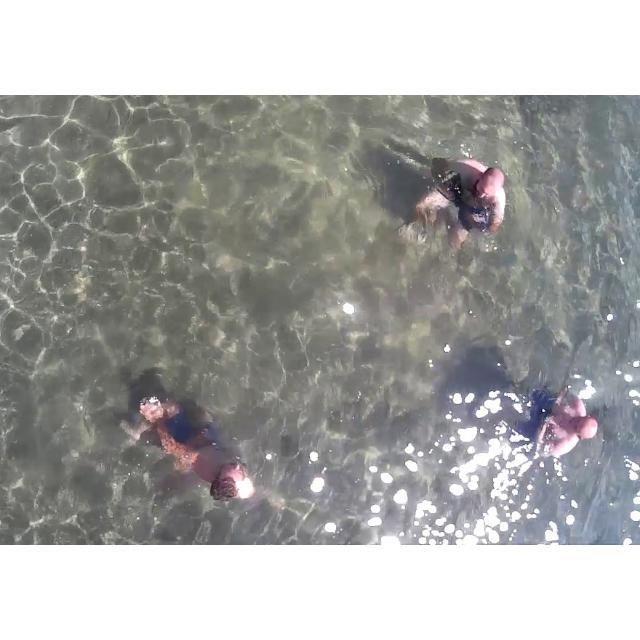human: (120, 382, 268, 514), (407, 137, 516, 251), (503, 362, 599, 464)
